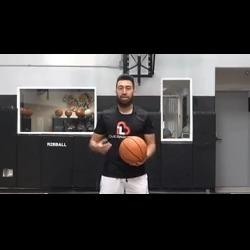BasketBall: (117, 134, 148, 166)
